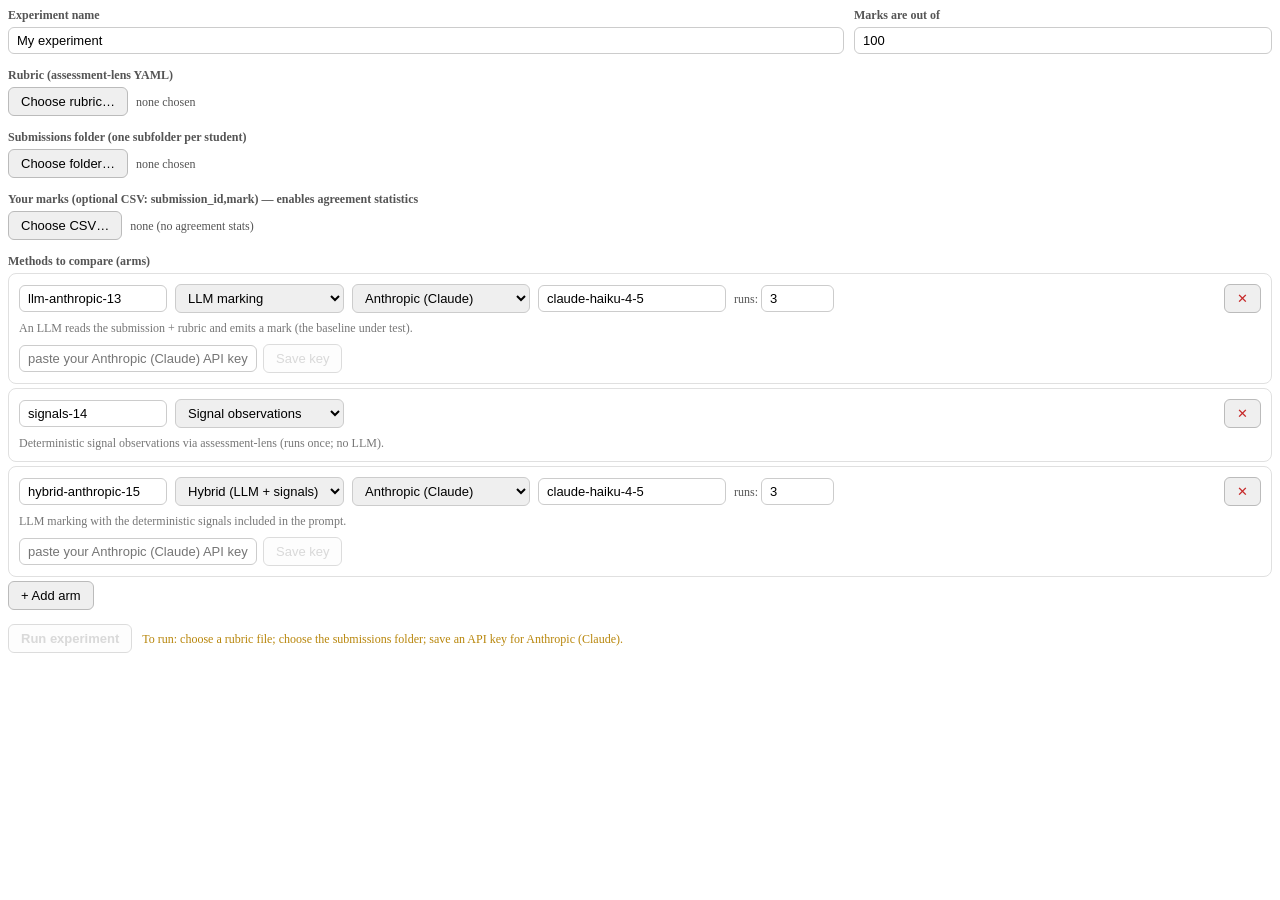
it: ExperimentBuilder › defaults a switched ollama arm to the curated local model
The width and height of the screenshot is (1280, 900).
Select "Ollama (local — private)" in the 2nd dropdown showing "Anthropic (Claude)" at (441, 298), box x1=352 y1=284 x2=530 y2=313
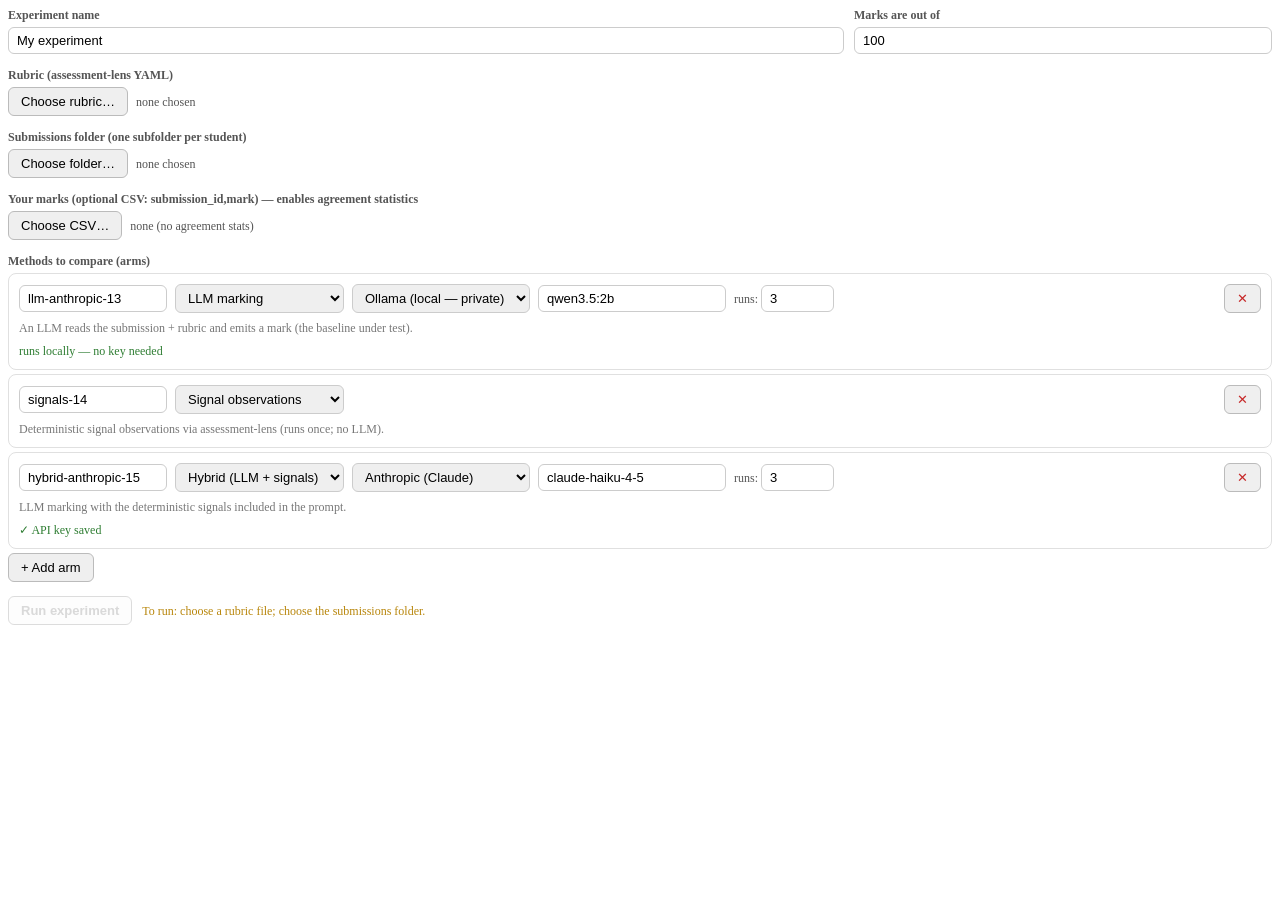
Now the number of fields showing "qwen3.5:2b" is 1, box x1=538 y1=285 x2=726 y2=312
